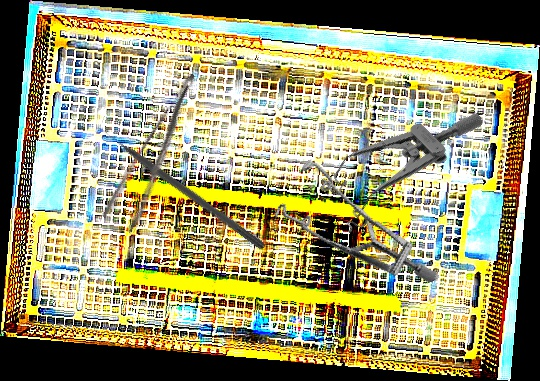Dressing Forceps: (98, 71, 222, 235)
Pusher: (95, 121, 268, 252)
Speculum: (259, 130, 440, 330), (309, 69, 485, 245)
